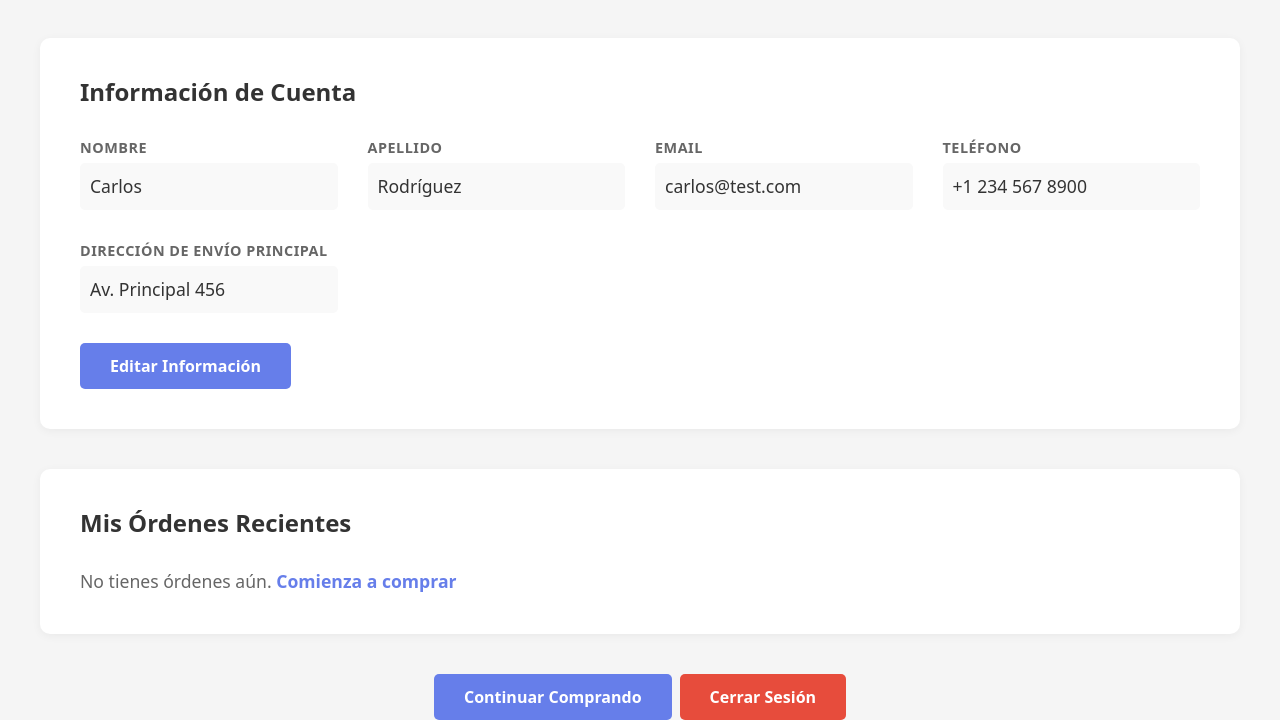
Dashboard Page › Modo Edición de Información › debe cancelar la edición y volver a la vista normal
Step 1. Click the button "Editar Información" → point(186, 366), box [80,343,291,389]
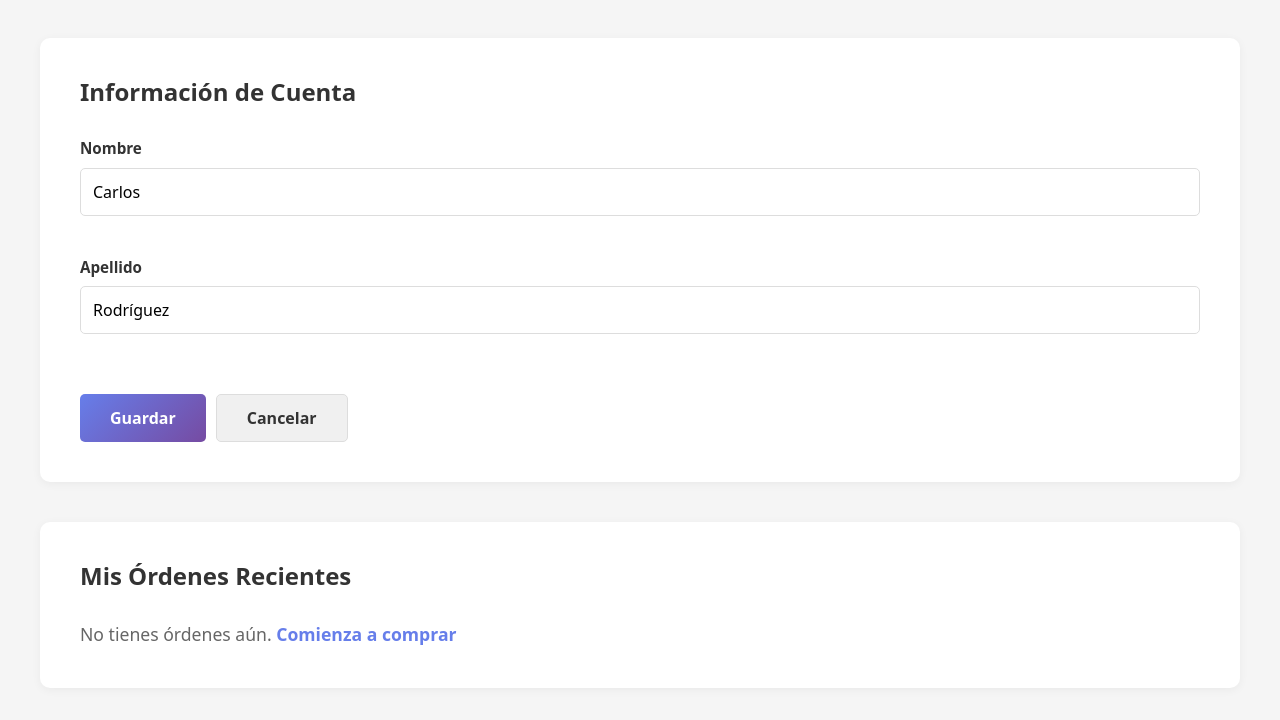
Check: the button "Cancelar" is shown
Step 2. Click the button "Cancelar" → point(282, 418), box [216,394,348,442]
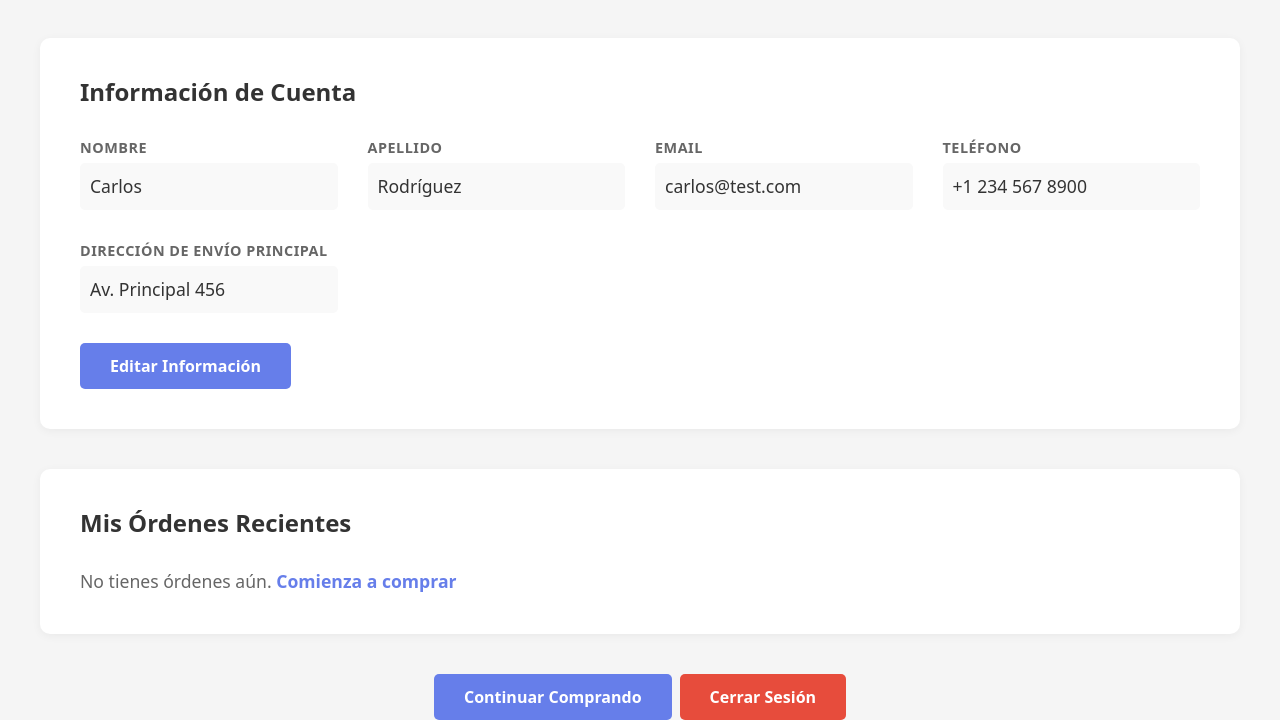
Check: the button "Editar Información" is shown, box [80,343,291,389]
Check: the button "Guardar" is gone
